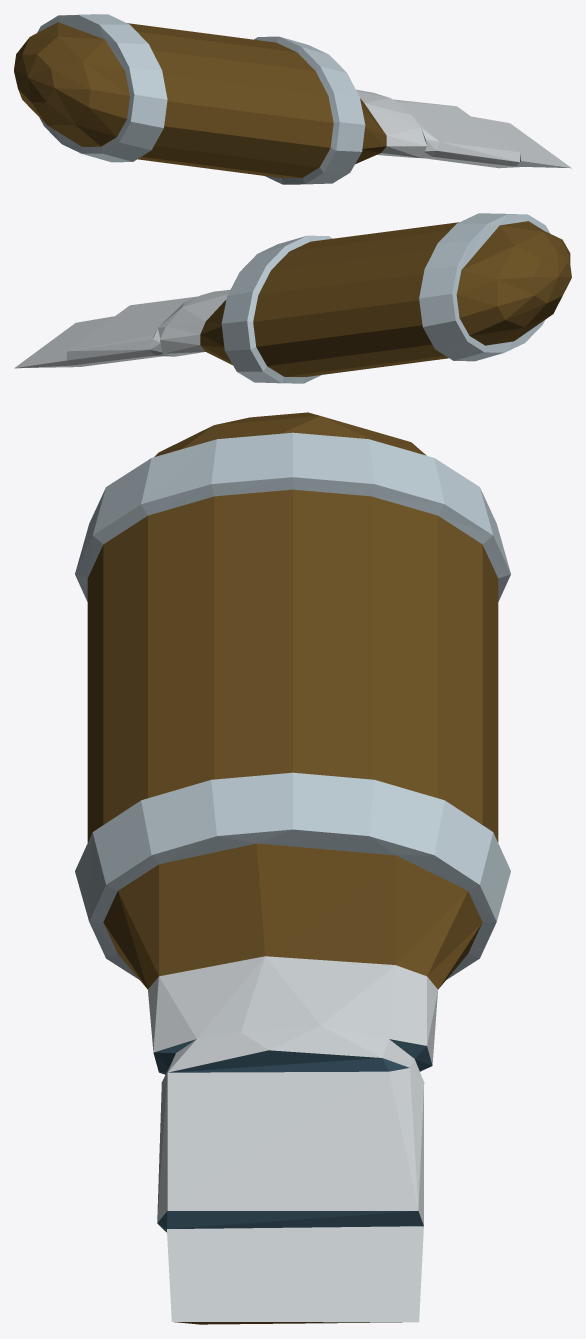
The picture shows the model from 3 angles, top to bottom: view 1: azimuth 30°, elevation 25°; view 2: azimuth 150°, elevation 25°; view 3: azimuth 270°, elevation 25°; orthographic projection. The views are drawn at different scales.
Visible parts, largest first — view 1: Capsule; view 2: Capsule; view 3: Capsule.
Part boxes in pixels (x1,y1,x2,y2): Capsule: [14, 14, 571, 184]; Capsule: [14, 213, 571, 383]; Capsule: [75, 412, 510, 1324].
Bounding box in the file's own units: 289 × 124 × 106.
